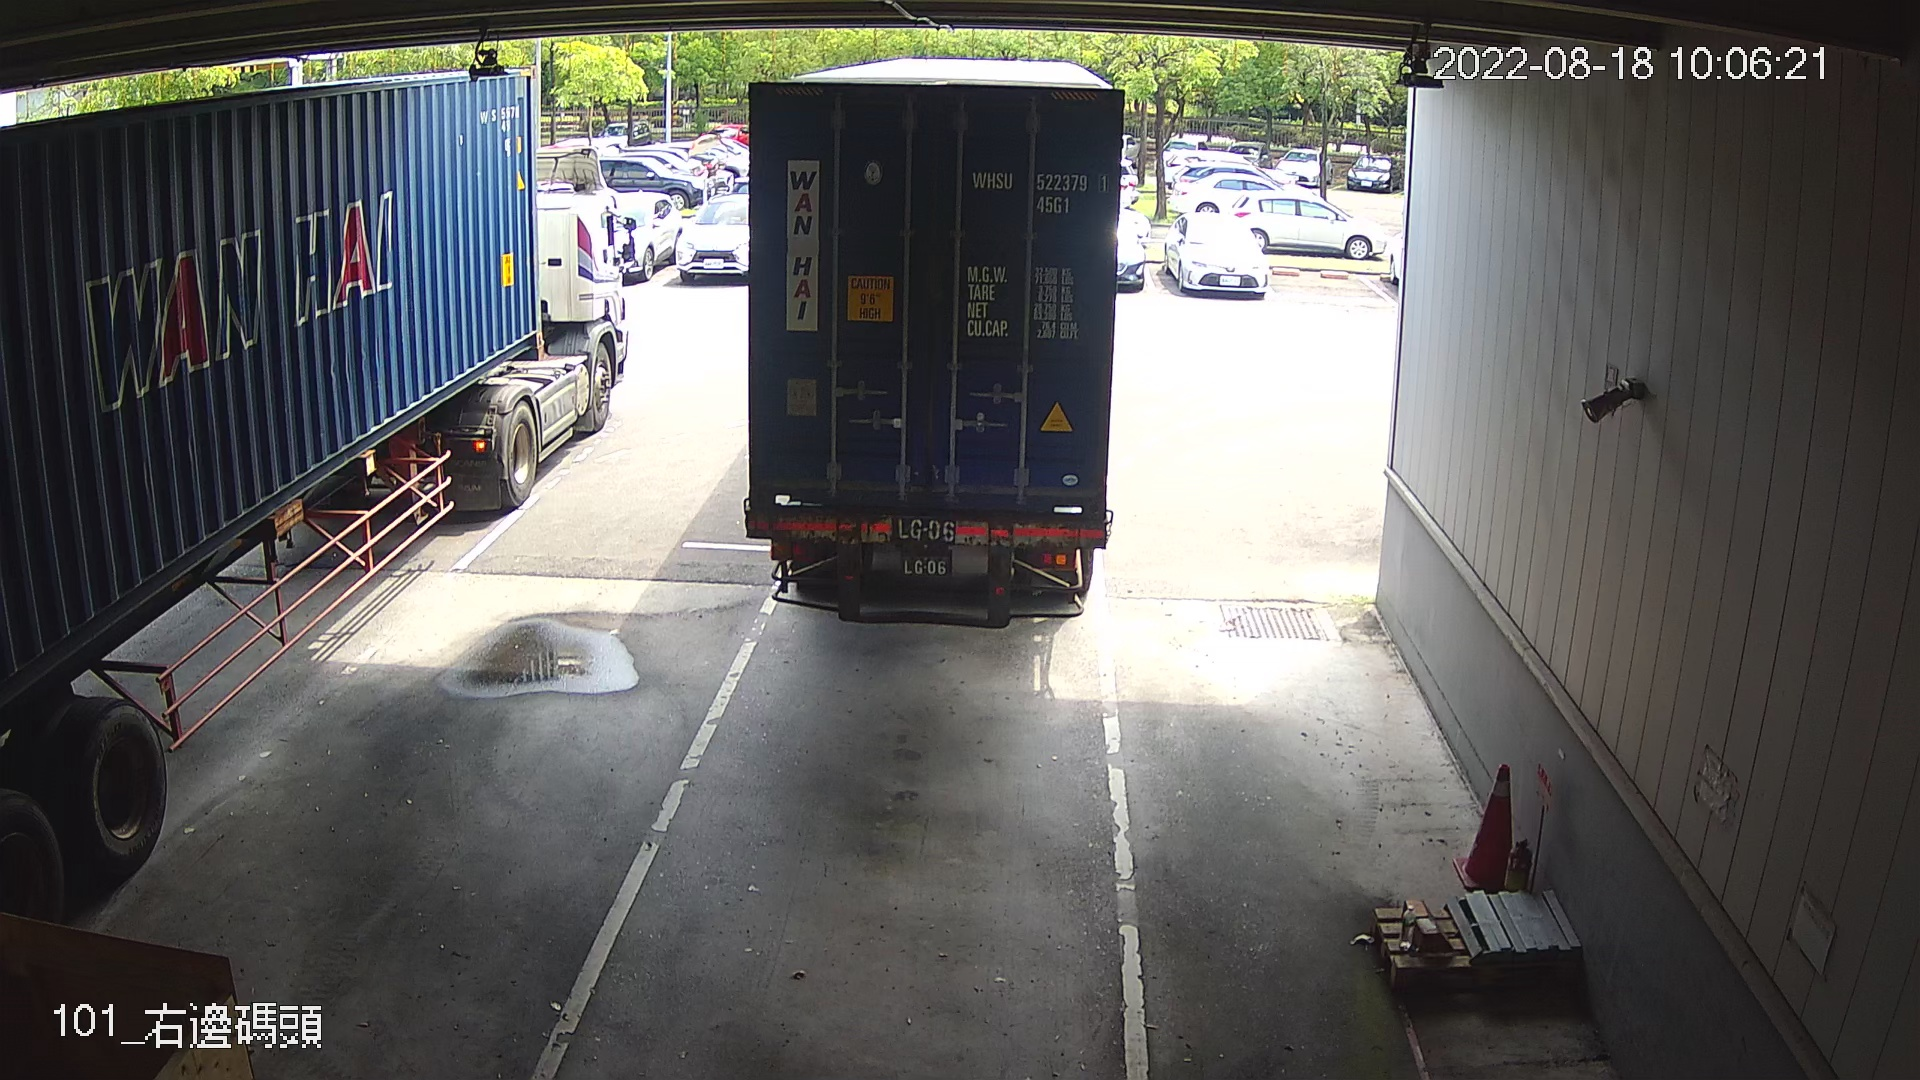container: (967, 164, 1113, 218)
